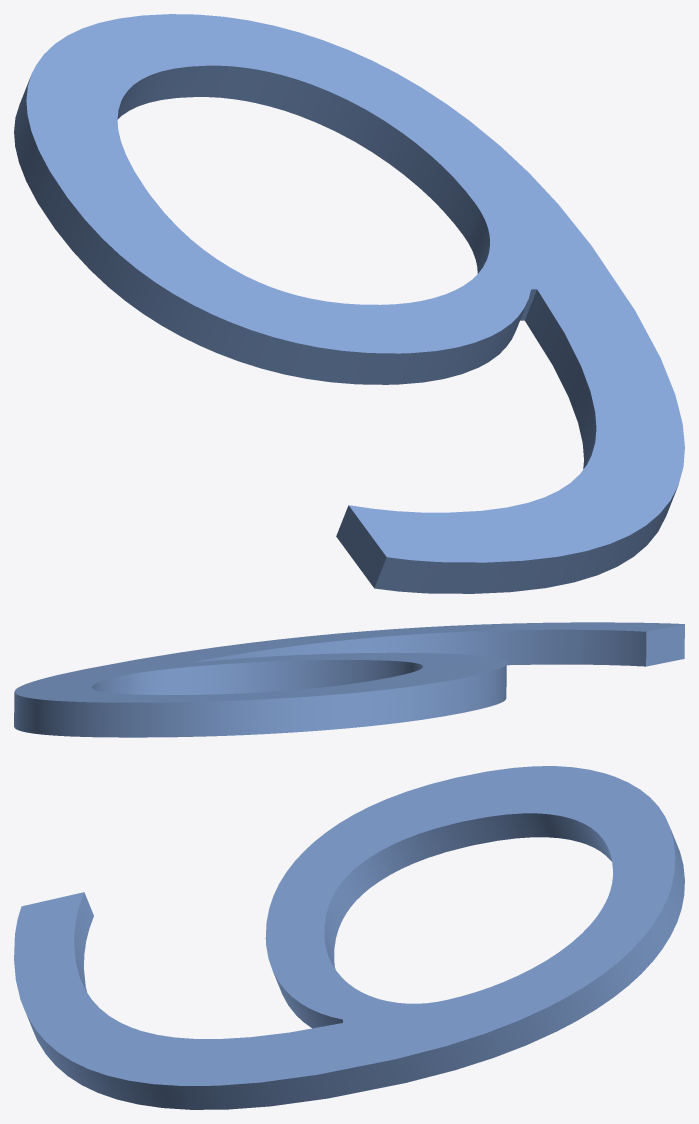
File: New_Number_9.gltf
3 views of the same model, one above another, from view 1: azimuth 30°, elevation 25°; view 2: azimuth 150°, elevation 25°; view 3: azimuth 270°, elevation 25° (orthographic). The views are drawn at different scales.
Parts seen in each view (by area): view 1: Part 738; view 2: Part 738; view 3: Part 738.
Part boxes in pixels (x1=…): Part 738: x1=14, y1=14, x2=684, y2=593; Part 738: x1=14, y1=622, x2=684, y2=737; Part 738: x1=14, y1=766, x2=684, y2=1109.
Size of the model in its own units: 0.00353 by 0.00195 by 0.00555.
